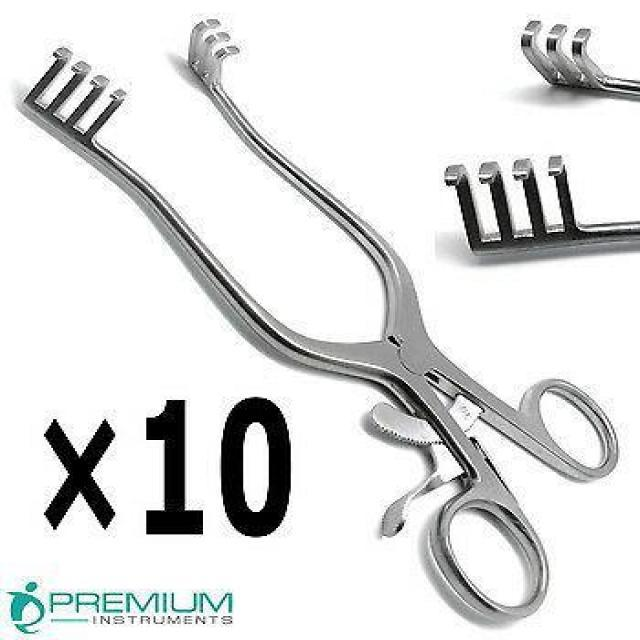Weitlaner: (20, 18, 620, 628), (440, 19, 640, 267)
